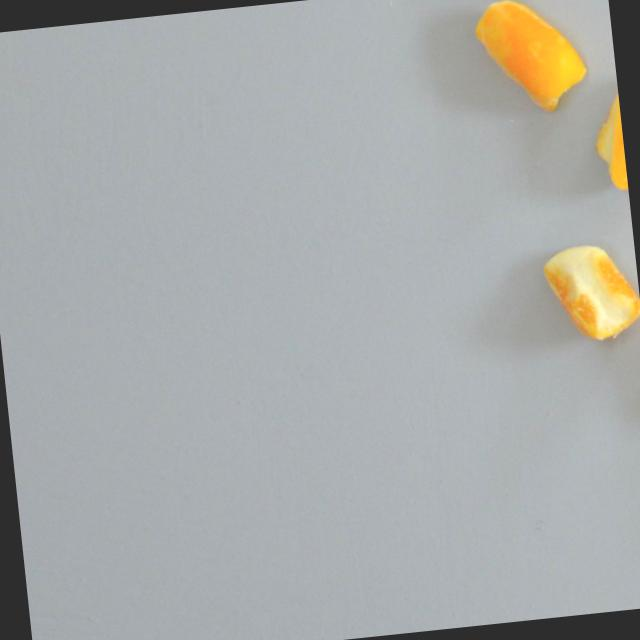agrietado: (584, 71, 629, 198)
pelicula: (467, 0, 594, 121), (535, 235, 640, 349)
